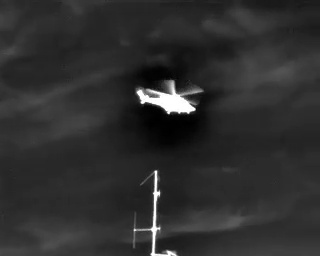HELICOPTER: (135, 74, 208, 122)
